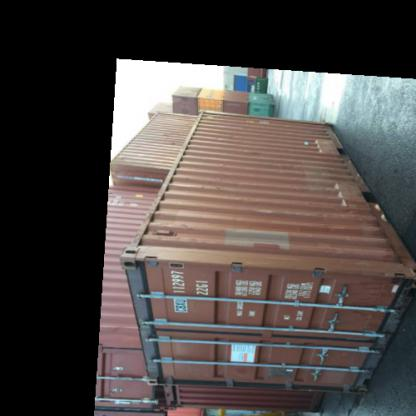Damage: (322, 175, 350, 213), (298, 132, 326, 156)
